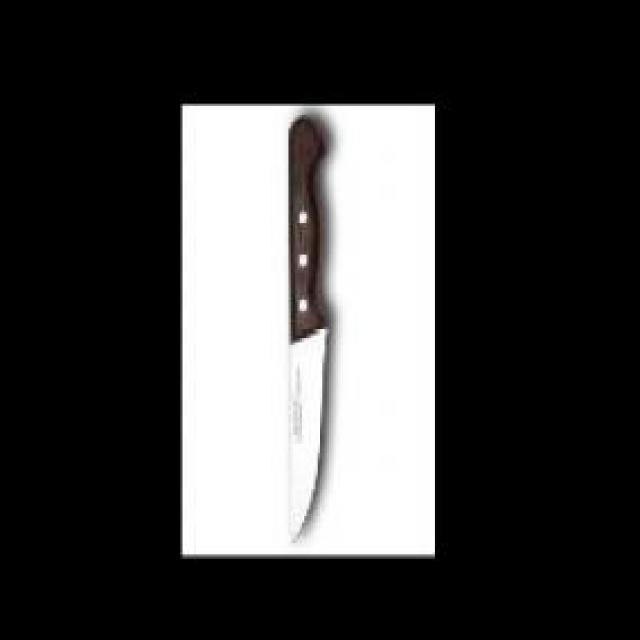knife: (285, 115, 327, 554)
